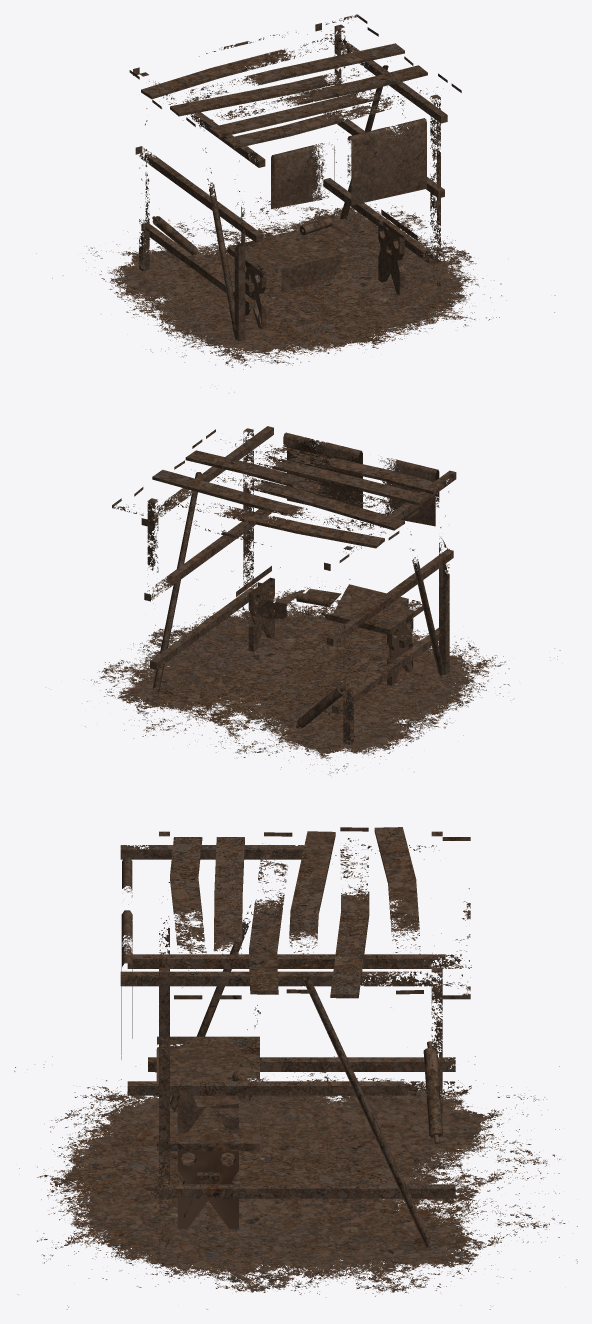
The picture shows the model from 3 angles, top to bottom: view 1: azimuth 30°, elevation 25°; view 2: azimuth 150°, elevation 25°; view 3: azimuth 270°, elevation 25°; orthographic projection. The views are drawn at different scales.
Visible parts, largest first — view 1: BaseBody_02, Plane.008, Carpet, BaseBody_02.001; view 2: Plane.008, BaseBody_02, Carpet; view 3: Plane.008, BaseBody_02, Carpet.
Part boxes in pixels (<box>): BaseBody_02: <box>129,14,461,341</box>; Plane.008: <box>36,192,555,393</box>; Carpet: <box>245,118,426,293</box>; BaseBody_02.001: <box>303,226,350,246</box>; Plane.008: <box>85,571,560,775</box>; BaseBody_02: <box>112,426,456,744</box>; Carpet: <box>257,432,439,621</box>; Plane.008: <box>14,1056,577,1309</box>; BaseBody_02: <box>120,827,471,1248</box>; Carpet: <box>121,857,260,1139</box>.
Size of the model in its own units: 58602 by 29804 by 54878.
3 materials, 3 textured.
